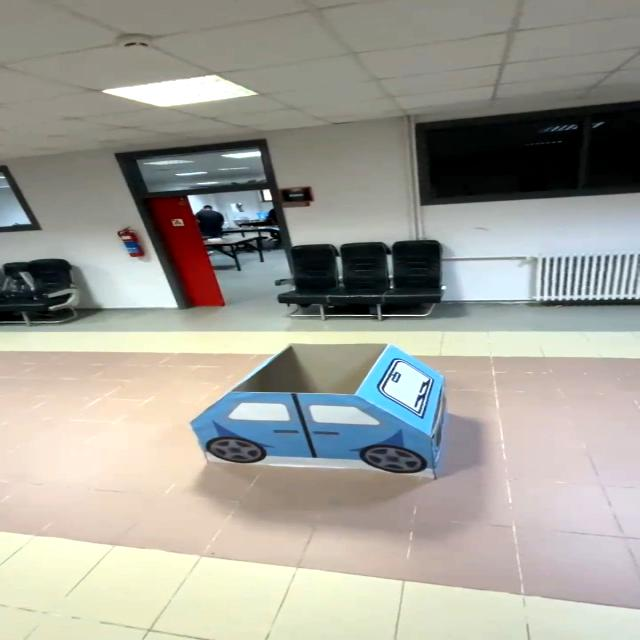blue_car: (160, 335, 468, 508)
